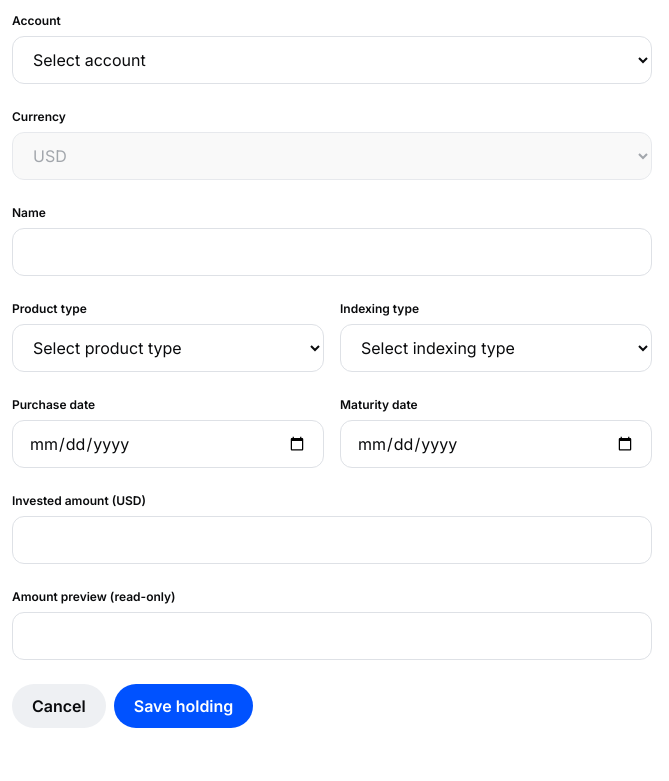
Test case: BrFiForm indexing fields › shows indicator picker only for SELIC
Select "SELIC" in the dropdown labelled "Indexing type" at x=496, y=348, box [340,324,652,372]
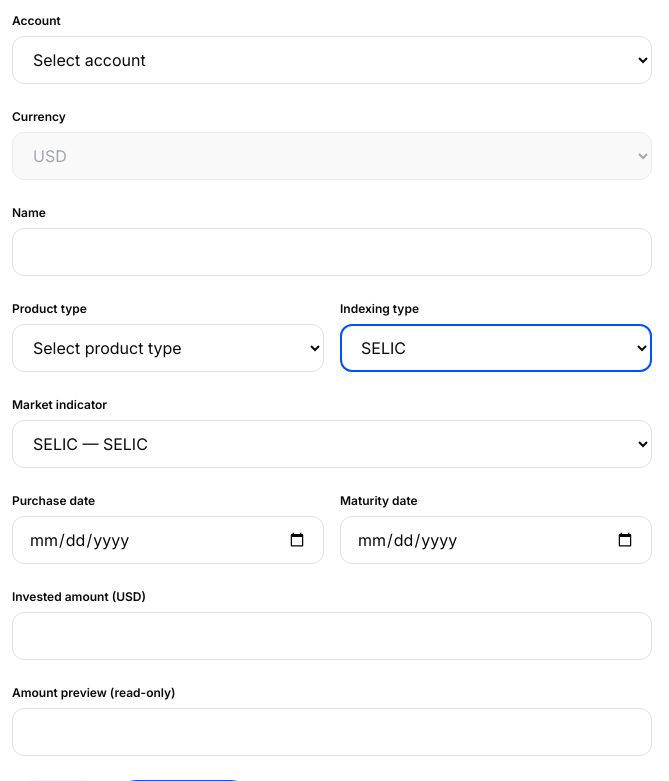
Check: the dropdown labelled "Market indicator" is shown, box [12,420,652,468]
